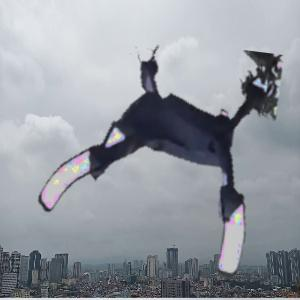drone: (43, 41, 274, 272)
